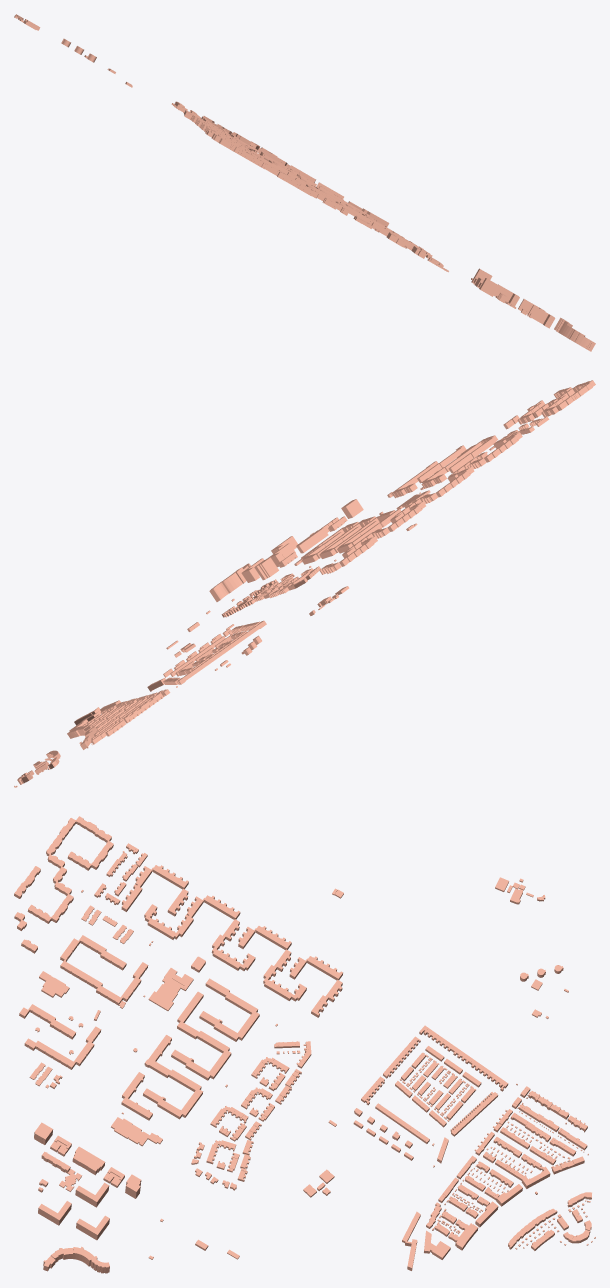
The picture shows the model from 3 angles, top to bottom: view 1: azimuth 30°, elevation 25°; view 2: azimuth 150°, elevation 25°; view 3: azimuth 270°, elevation 25°; orthographic projection. The views are drawn at different scales.
Size of the model in its own units: 899 by 704 by 1265.
